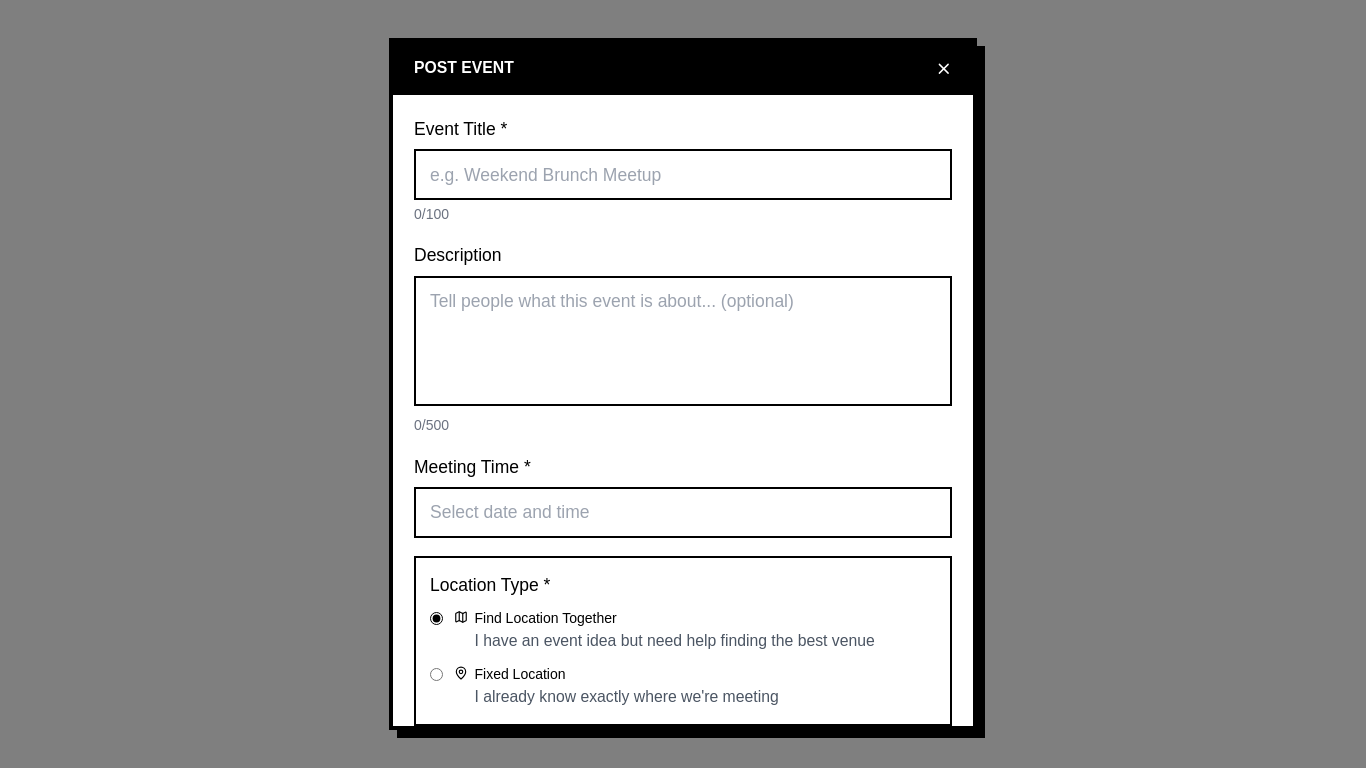
Test: PostEventModal › Character Limits › should show character count for description
Type "Test description" into the text box with placeholder "Tell people what this event is about... (optional)". click: coordinates (683, 341)
box: [414,276,952,406]
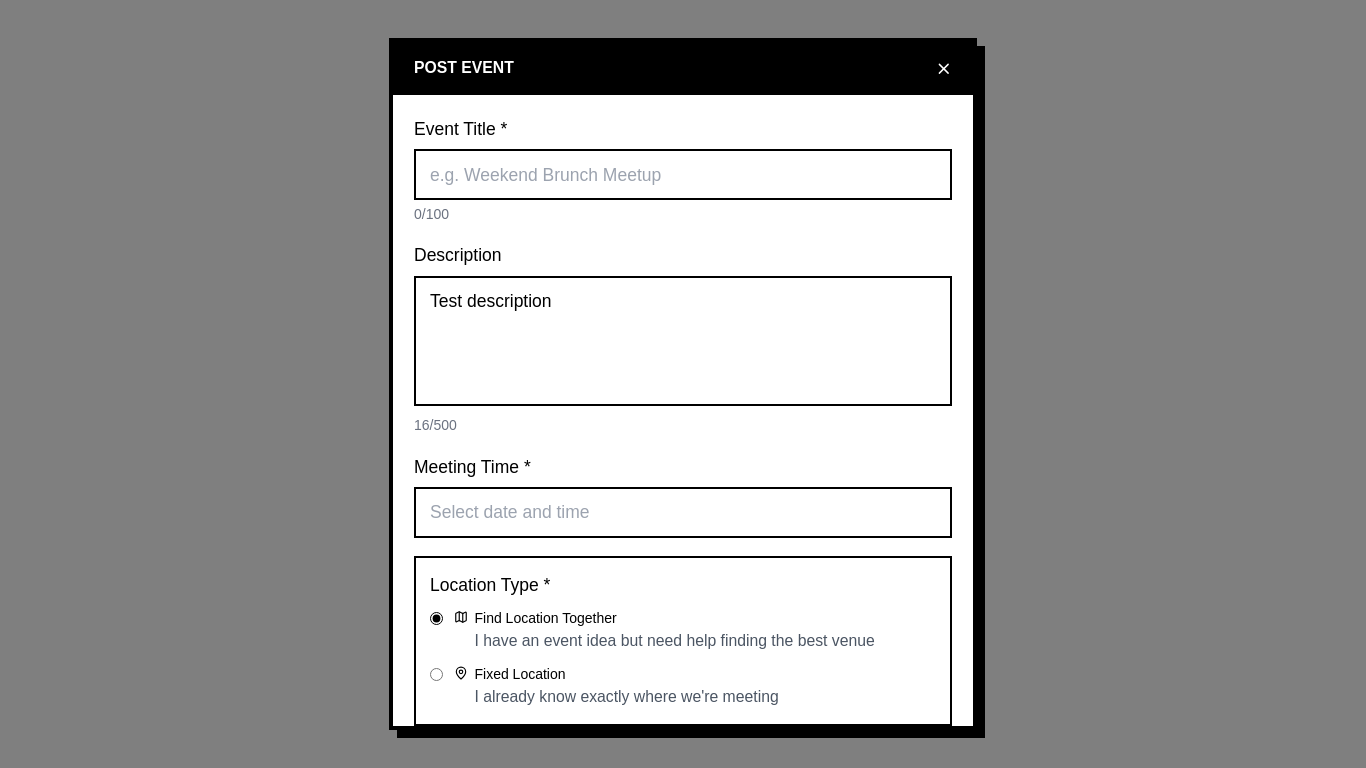
Now the text "16/500" is shown, box [414,417,457,433]
